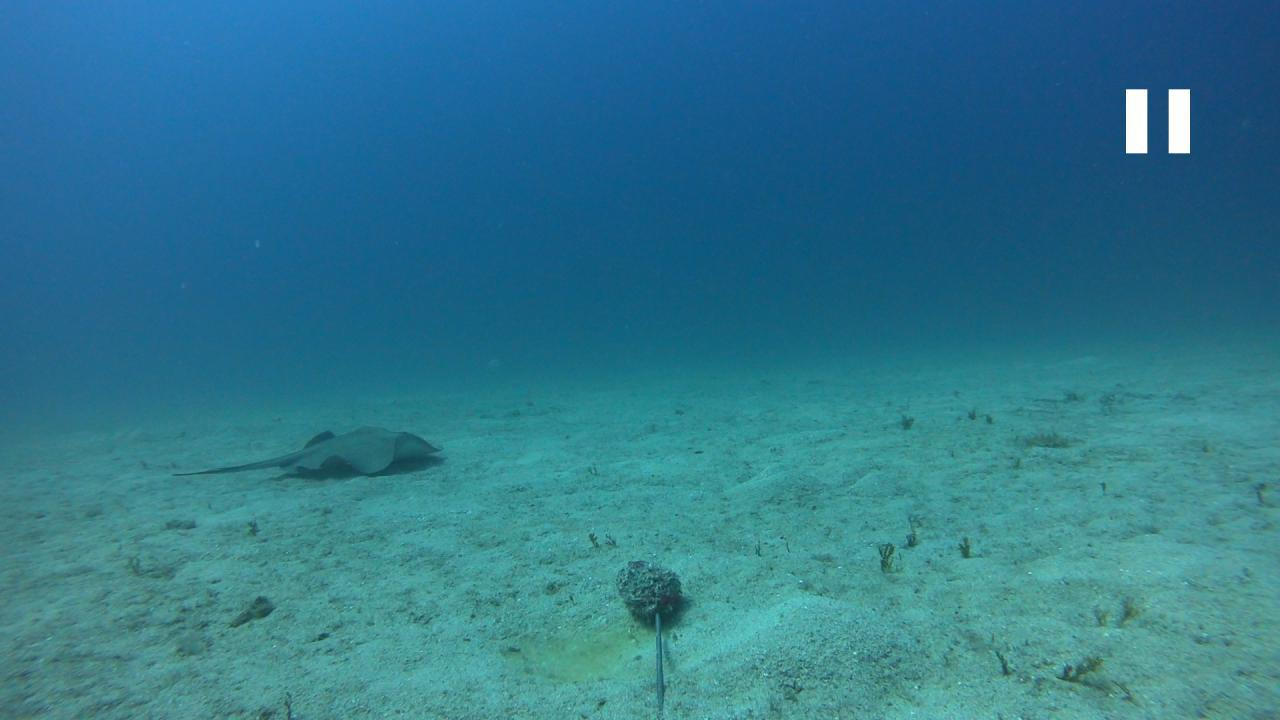dasyatis: (164, 422, 446, 476)
